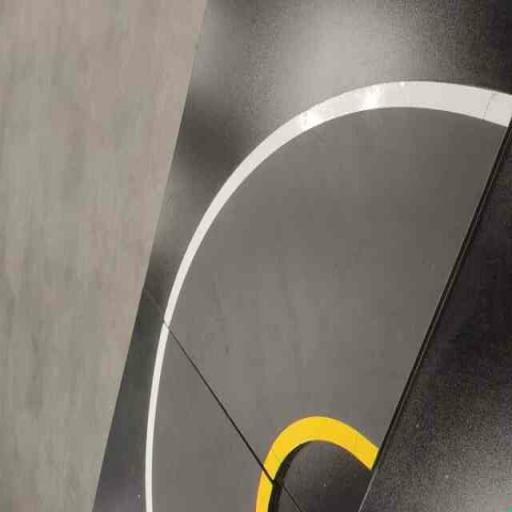left: (145, 11, 511, 482)
